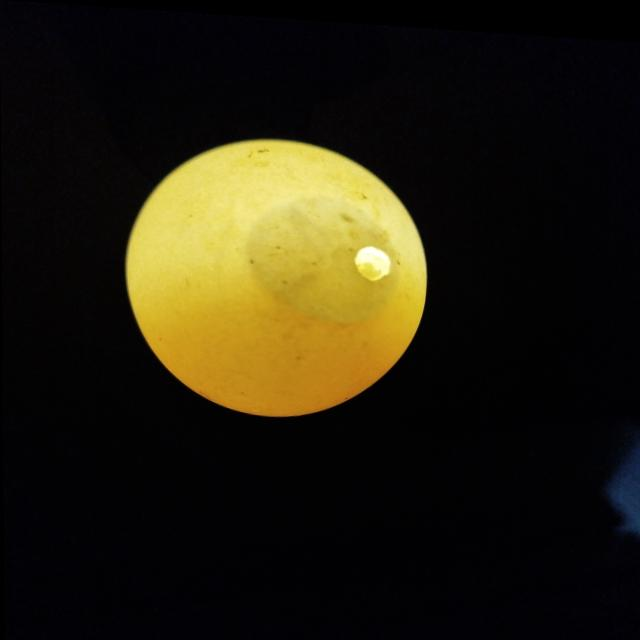Camara de Ar: (244, 192, 399, 317)
